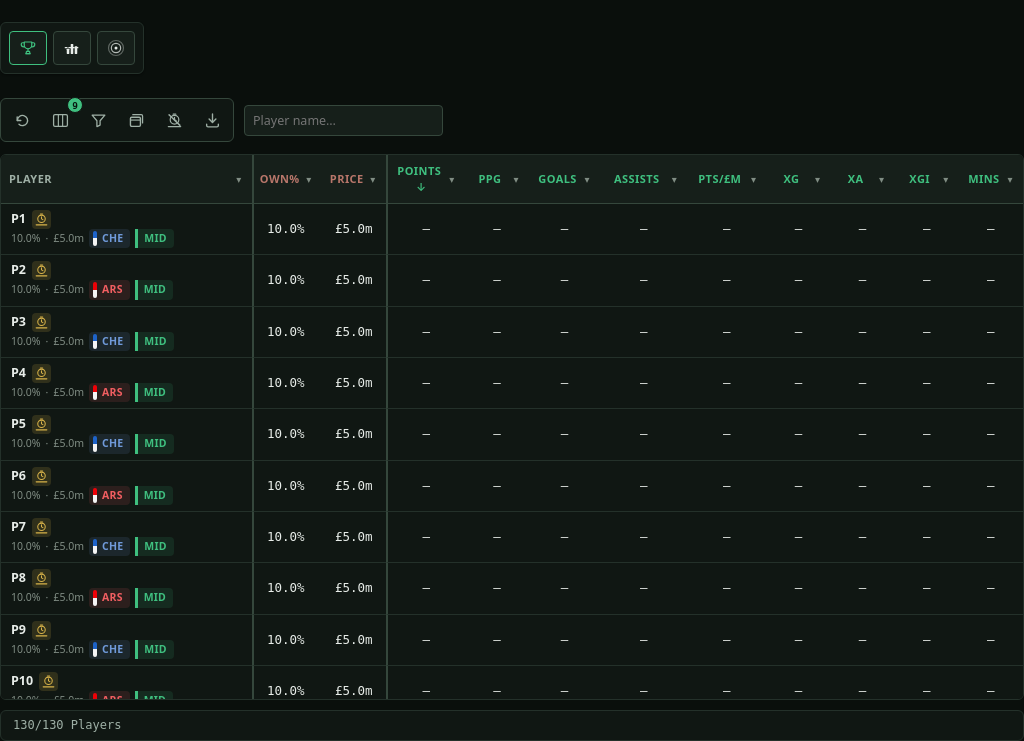
it: Player Explorer — only the rows in view are drawn (<row_window>) › a Team badge still opens the club's profile (<team_badge_opener>)
Step 1. Click the button named "Current Season" → {"x": 116, "y": 48}, box [97,31,135,65]
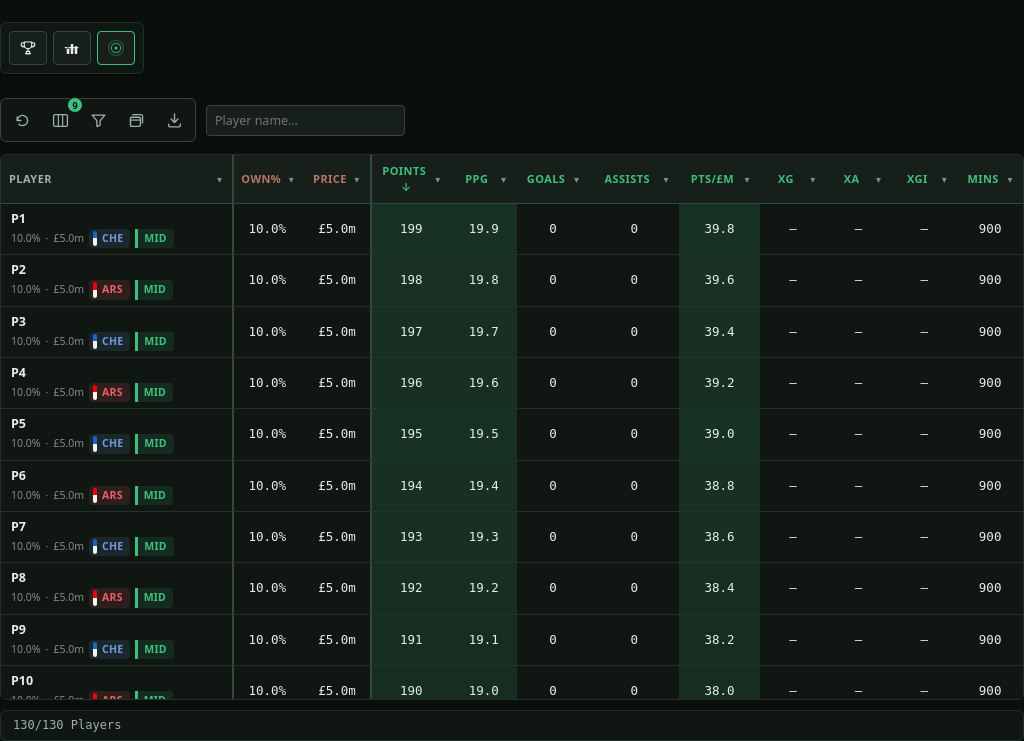
Step 2. Click the button with aria-label "View CHE team profile" → {"x": 110, "y": 239}, box [89,229,130,248]
(page scrolled)
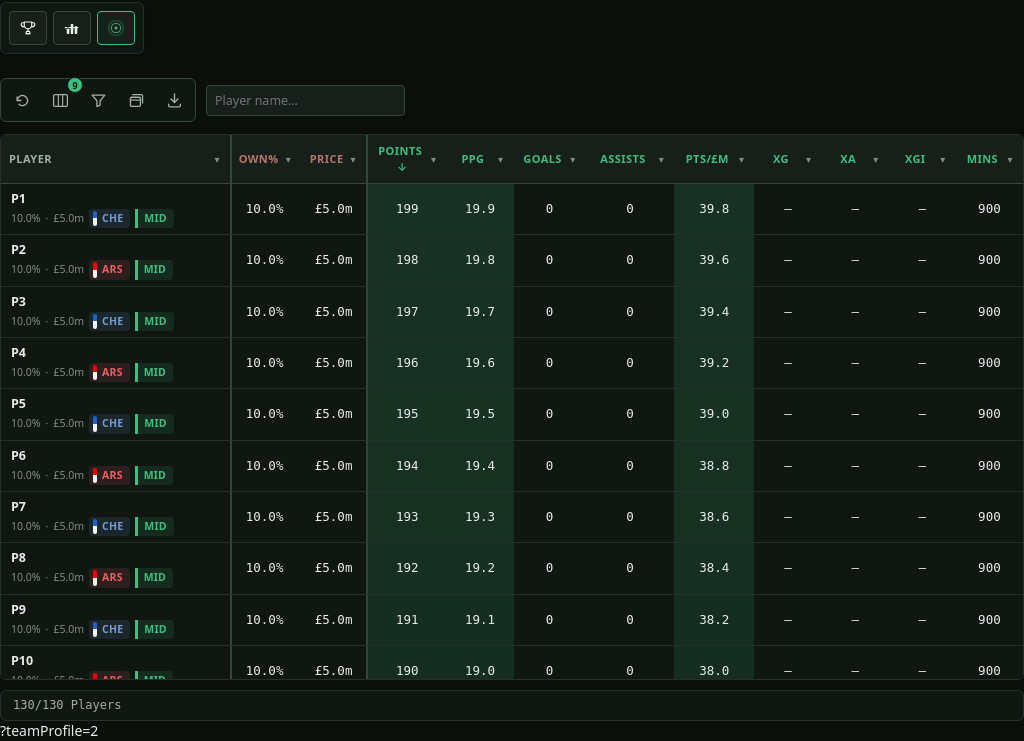
Now the text with test id "location" shows "teamProfile=2", box [0,721,98,740]
